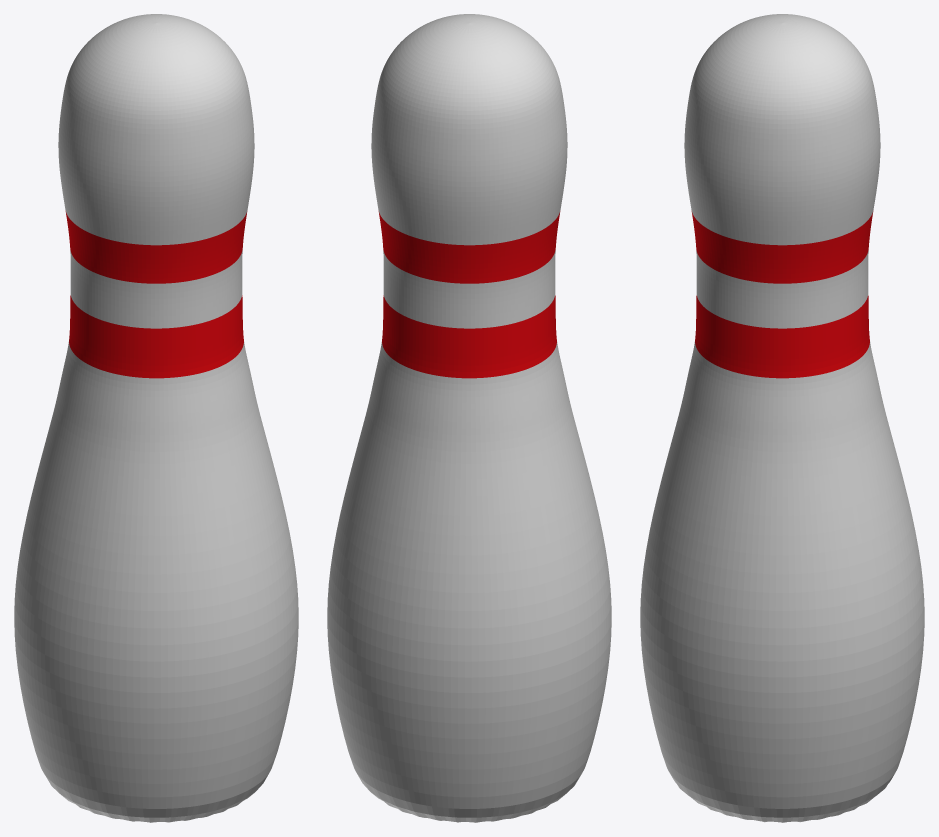
Rendered from Quille.fbx.
3 renders of one model, left to right at view 1: azimuth 30°, elevation 25°; view 2: azimuth 150°, elevation 25°; view 3: azimuth 270°, elevation 25°, orthographic.
Visible parts, largest first — view 1: Quille; view 2: Quille; view 3: Quille.
Boxes of the visible parts, <box> form: Quille: <box>14,14,298,822</box>; Quille: <box>327,14,611,822</box>; Quille: <box>640,14,924,822</box>.
Bounding box in the file's own units: 33.4 × 100 × 33.4.
